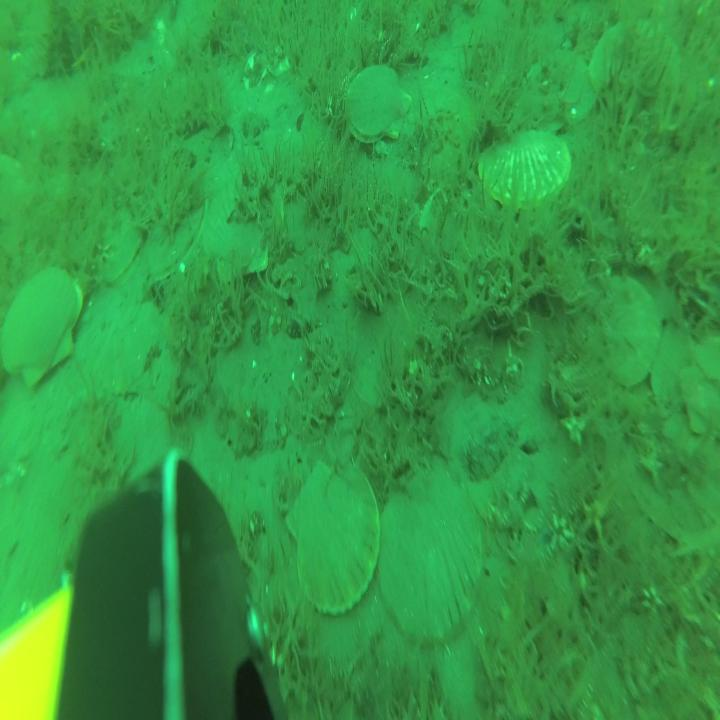scallop: (380, 486, 485, 644), (286, 454, 378, 613), (0, 268, 84, 383), (204, 165, 283, 277), (587, 16, 680, 96), (478, 127, 572, 206), (601, 276, 660, 386), (346, 67, 413, 144)
